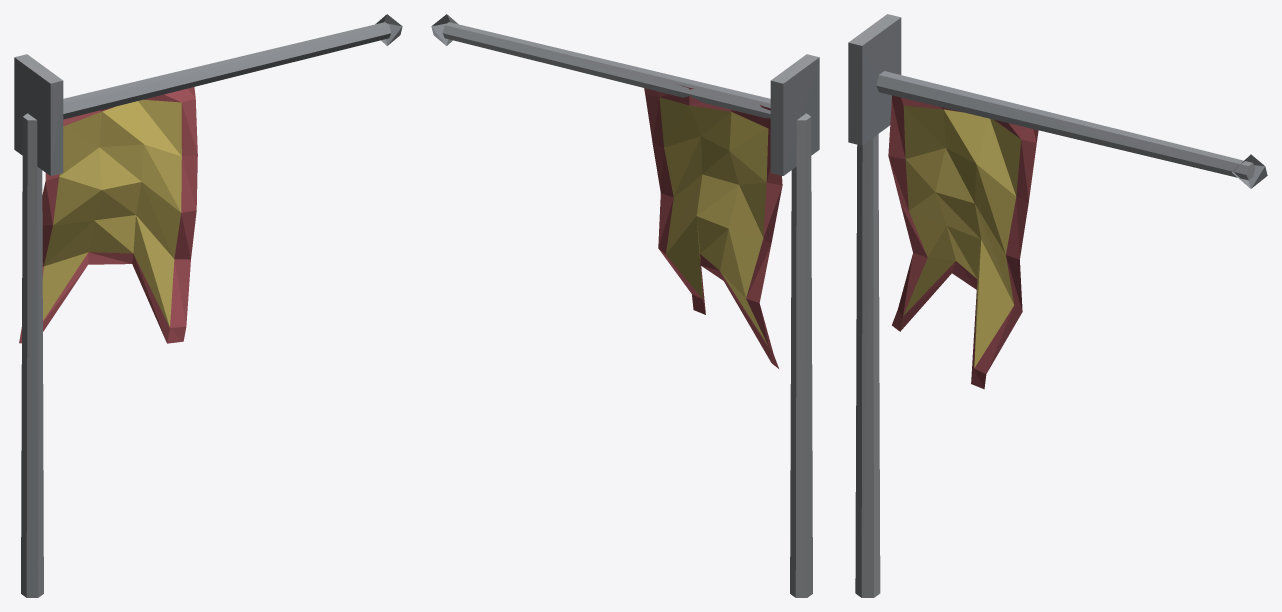
The model's file is flag.swallowtail.jinyan__pole.horizontal.big__armHang.glb.
The picture shows the model from 3 angles, left to right: view 1: azimuth 30°, elevation 25°; view 2: azimuth 150°, elevation 25°; view 3: azimuth 330°, elevation 25°; orthographic projection. The views are drawn at different scales.
Parts seen in each view (by area): view 1: flag.swallowtail.jinyan; view 2: flag.swallowtail.jinyan; view 3: flag.swallowtail.jinyan.
Boxes of the visible parts, x1,y1,x2,y2 form: flag.swallowtail.jinyan: (14, 14, 402, 597); flag.swallowtail.jinyan: (431, 14, 819, 597); flag.swallowtail.jinyan: (848, 14, 1267, 597).
Bounding box in the file's own units: 2.66 × 3.51 × 0.5501.
